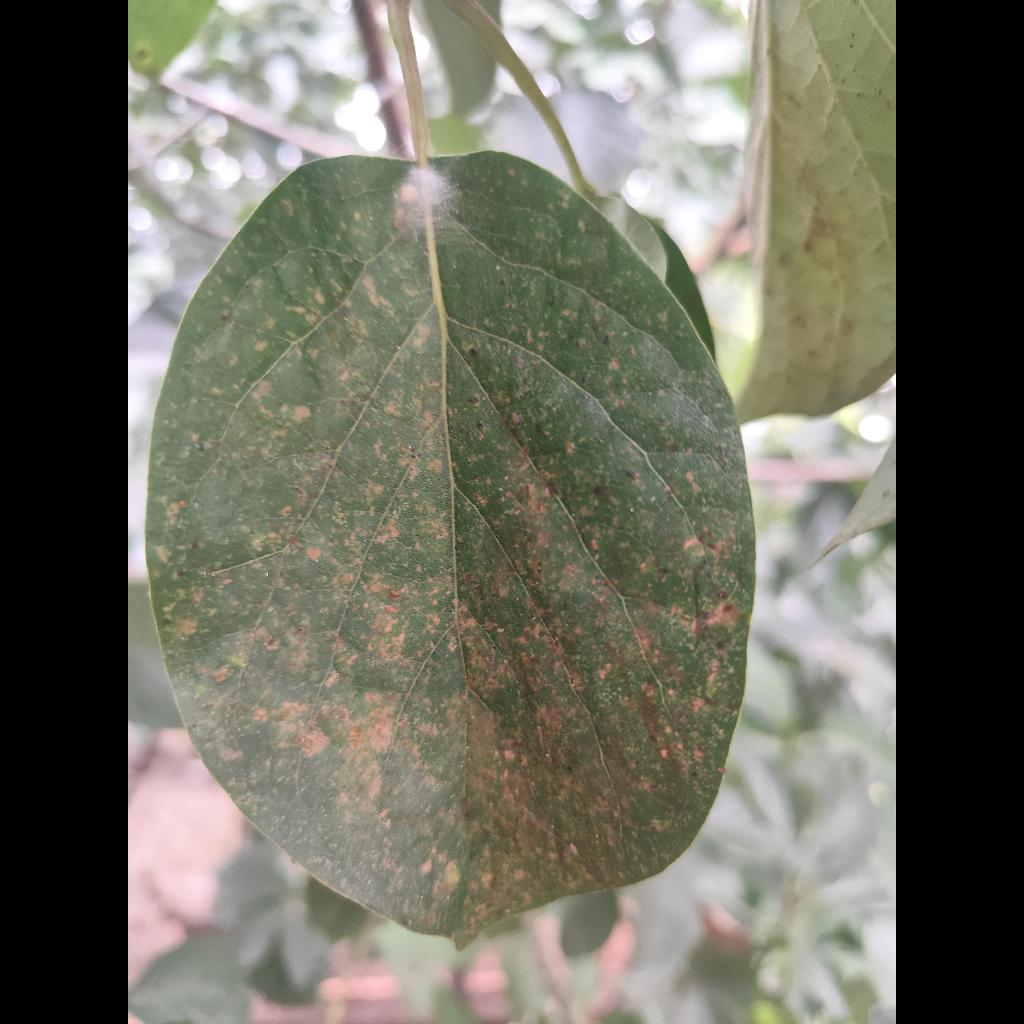antracnosis_hoja: (147, 152, 754, 945)
